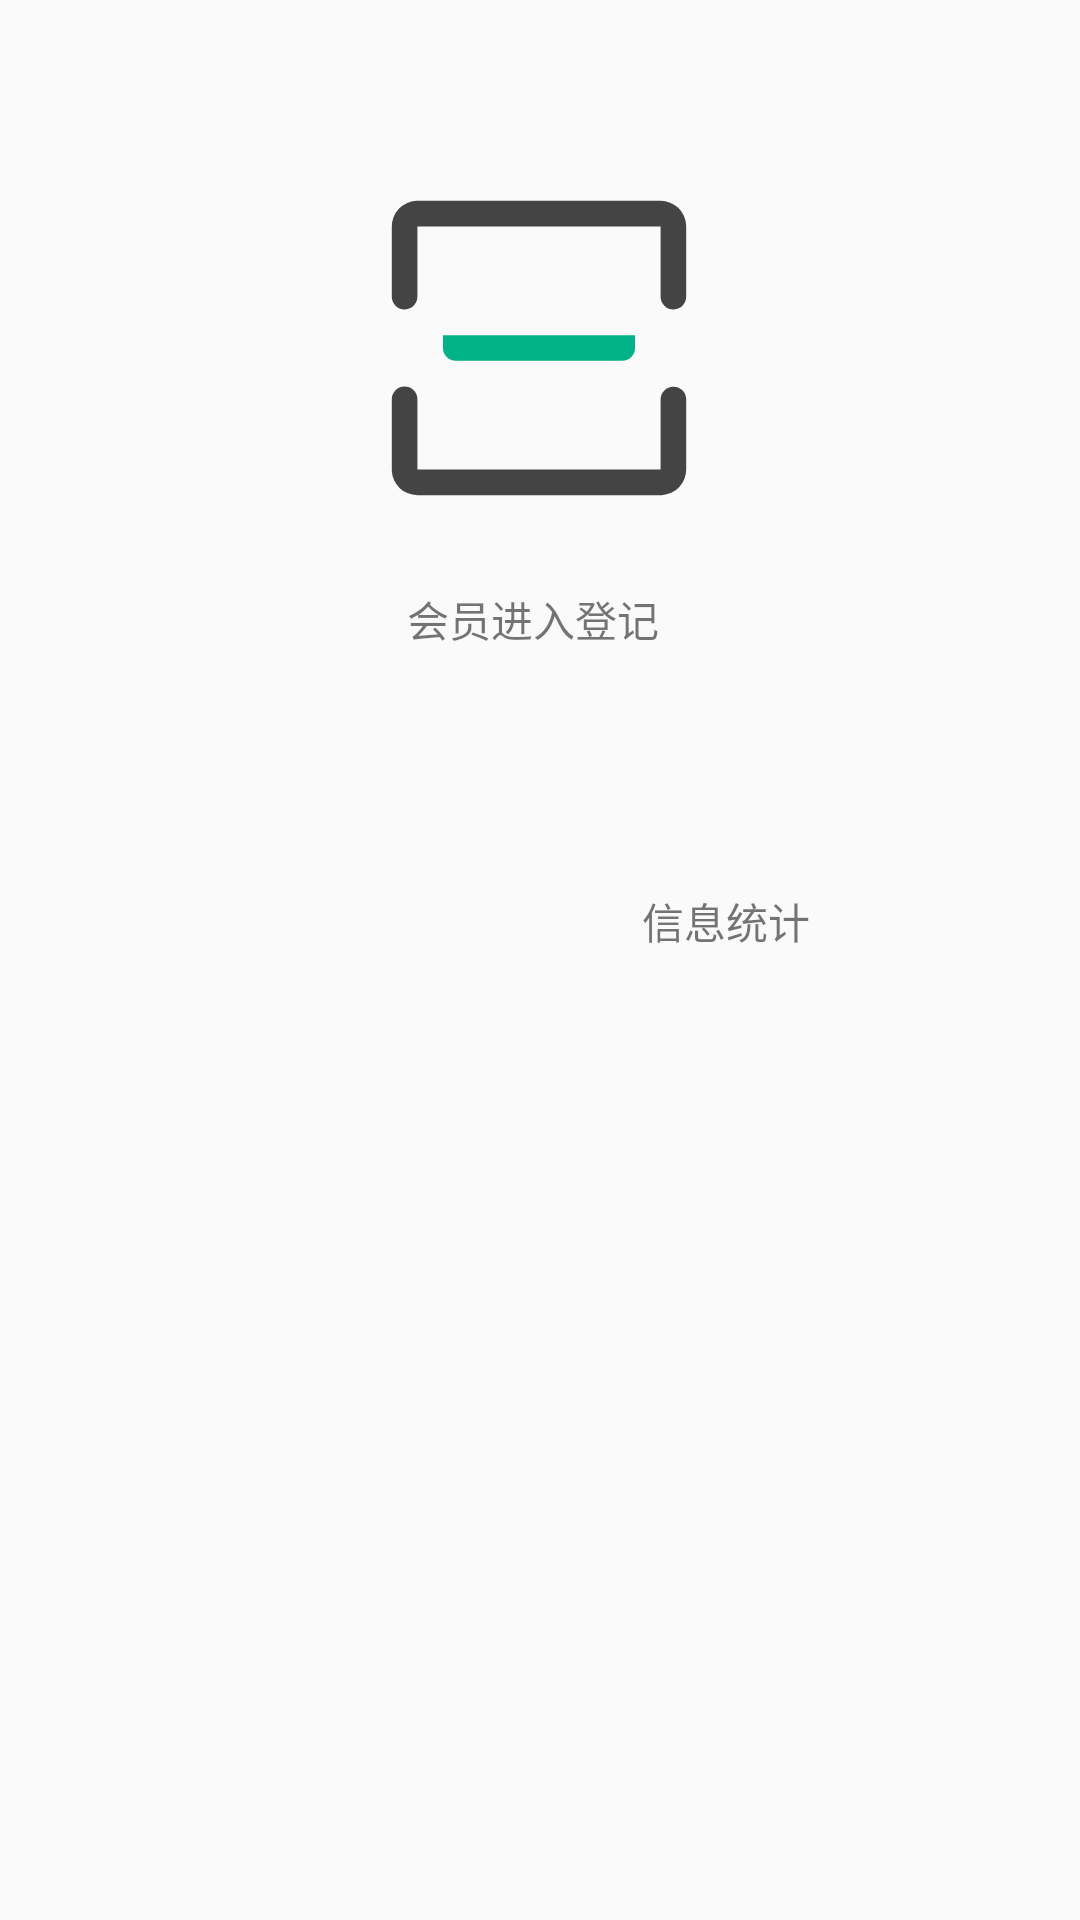

Icons on this 1080 × 1920 Android screen, each with the point to tap as point (x, y):
scan: point (539, 348)
